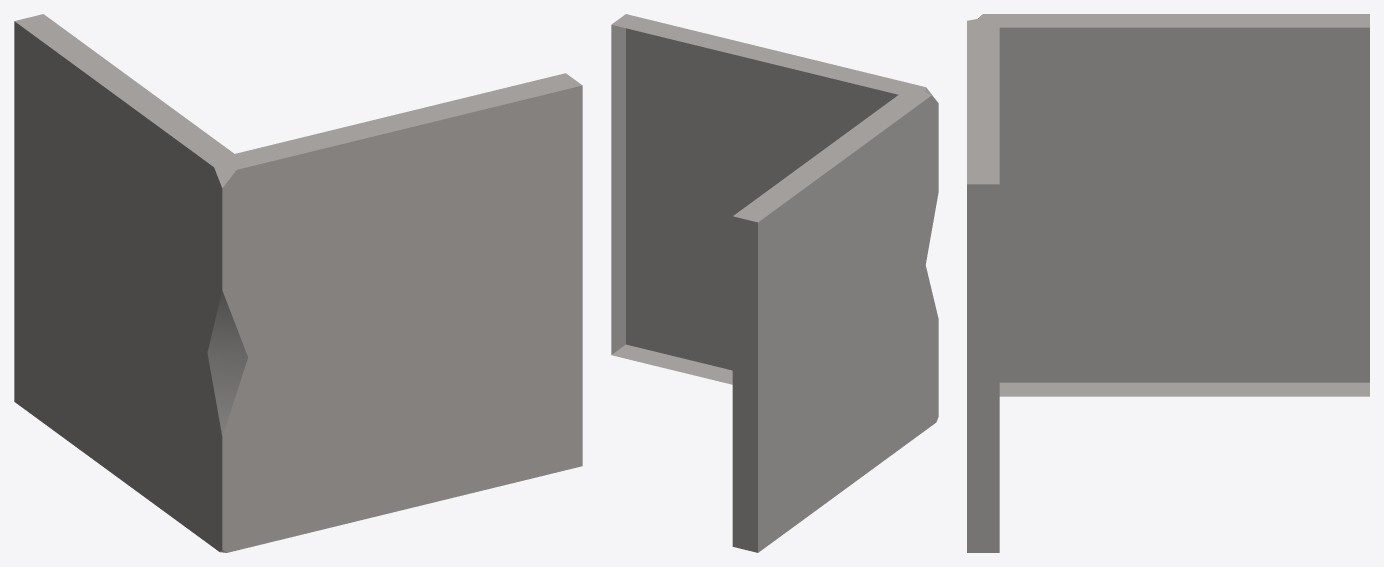
Rendered from SM_Env_Wall_32.fbx.
3 views of the same model, side by side, from view 1: azimuth 30°, elevation 25°; view 2: azimuth 150°, elevation 25°; view 3: azimuth 270°, elevation 25° (orthographic). The views are drawn at different scales.
Visible parts, largest first — view 1: SM_Env_Wall_32; view 2: SM_Env_Wall_32; view 3: SM_Env_Wall_32.
Boxes of the visible parts, x1,y1,x2,y2 form: SM_Env_Wall_32: (14,14,582,552); SM_Env_Wall_32: (611,14,938,552); SM_Env_Wall_32: (967,14,1369,552).
Size of the model in its own units: 141 by 142 by 141.
Materials: 1 (1 with a texture image).
